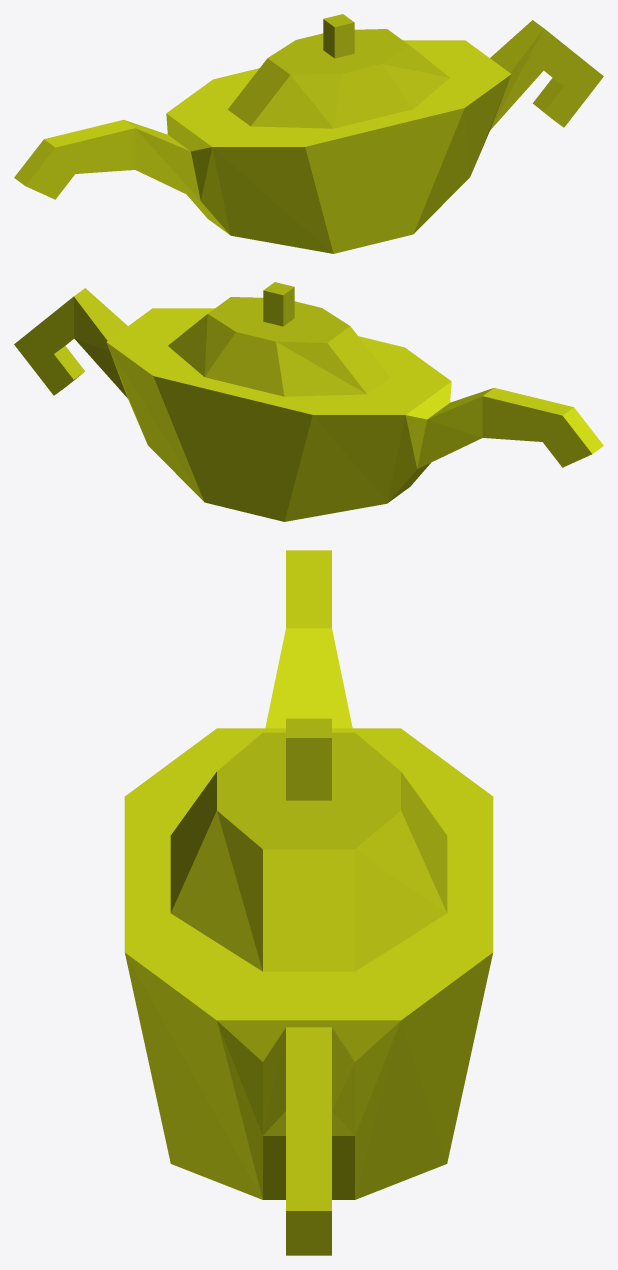
Rendered from inv_lamp.obj.
3 renders of one model, top to bottom at view 1: azimuth 30°, elevation 25°; view 2: azimuth 150°, elevation 25°; view 3: azimuth 270°, elevation 25°, orthographic. The views are drawn at different scales.
Bounding box in the file's own units: 0.4531 × 0.1484 × 0.125.
